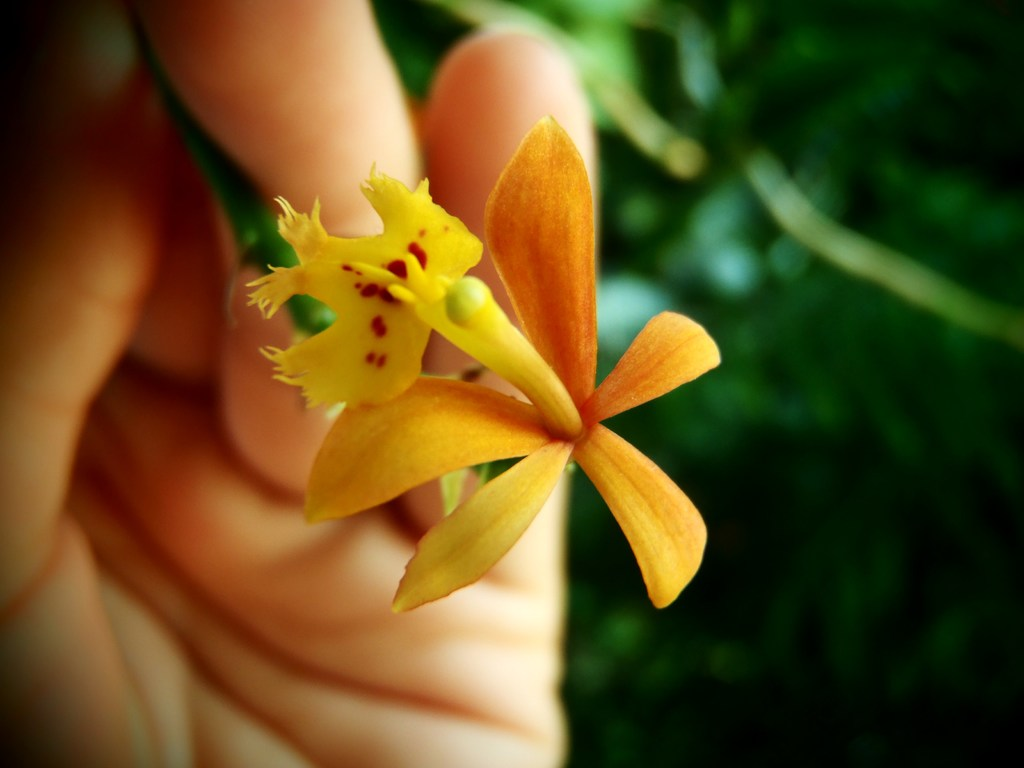Human_hand: (0, 0, 596, 767)
